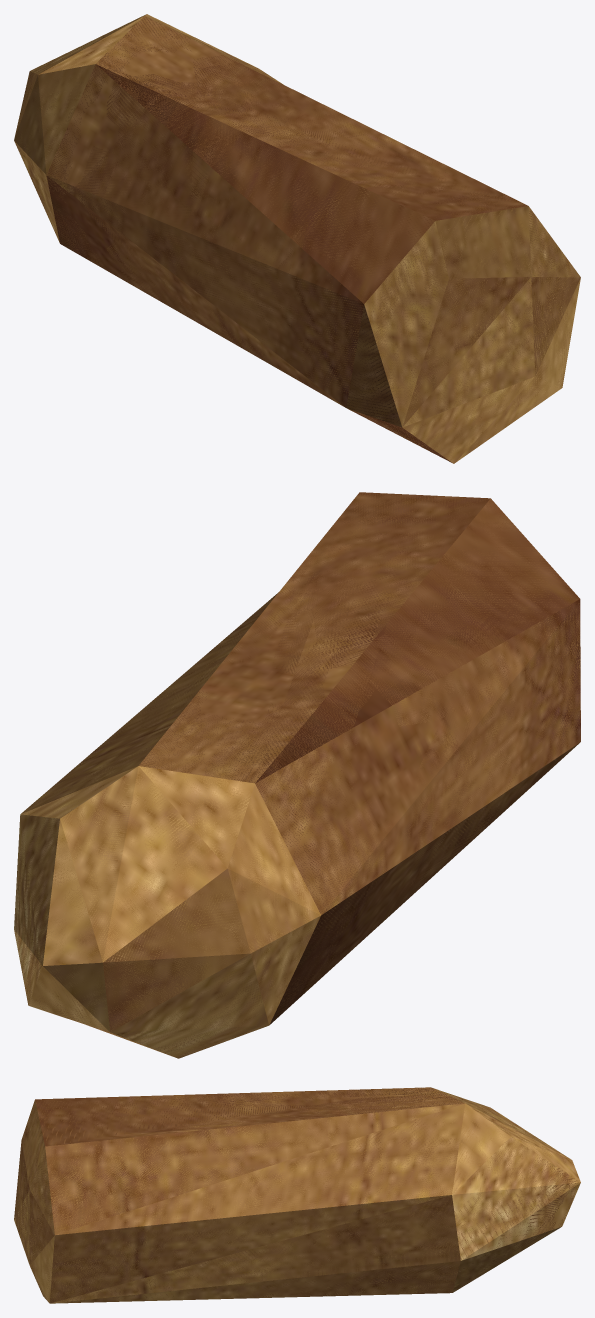
Rendered from bullet.obj.
The picture shows the model from 3 angles, top to bottom: view 1: azimuth 30°, elevation 25°; view 2: azimuth 150°, elevation 25°; view 3: azimuth 270°, elevation 25°; orthographic projection. The views are drawn at different scales.
Parts seen in each view (by area): view 1: bullet:Mesh; view 2: bullet:Mesh; view 3: bullet:Mesh.
Part boxes in pixels (<box>): bullet:Mesh: <box>14,14,580,463</box>; bullet:Mesh: <box>14,492,580,1058</box>; bullet:Mesh: <box>14,1087,580,1303</box>.
Size of the model in its own units: 2.13 by 1.81 by 4.95.
